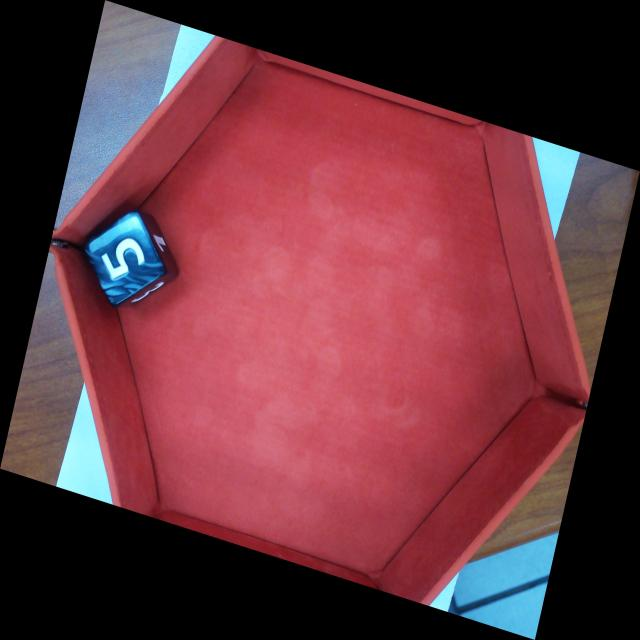dice: (79, 207, 168, 311)
